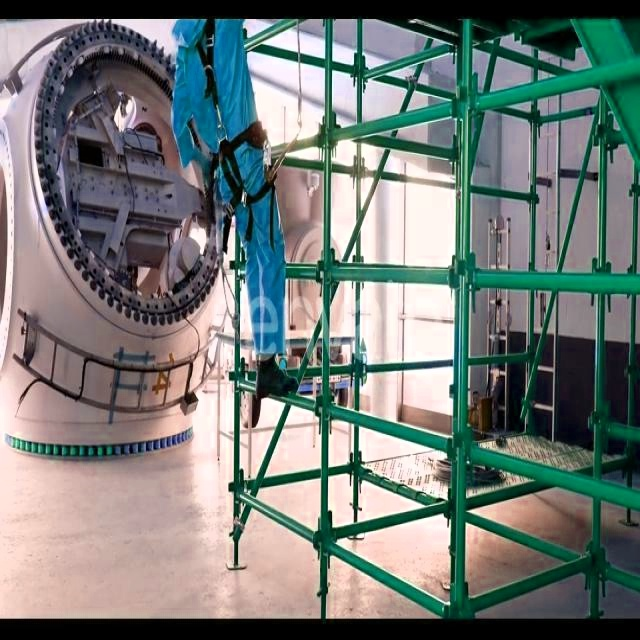safety belt: (171, 37, 276, 222)
